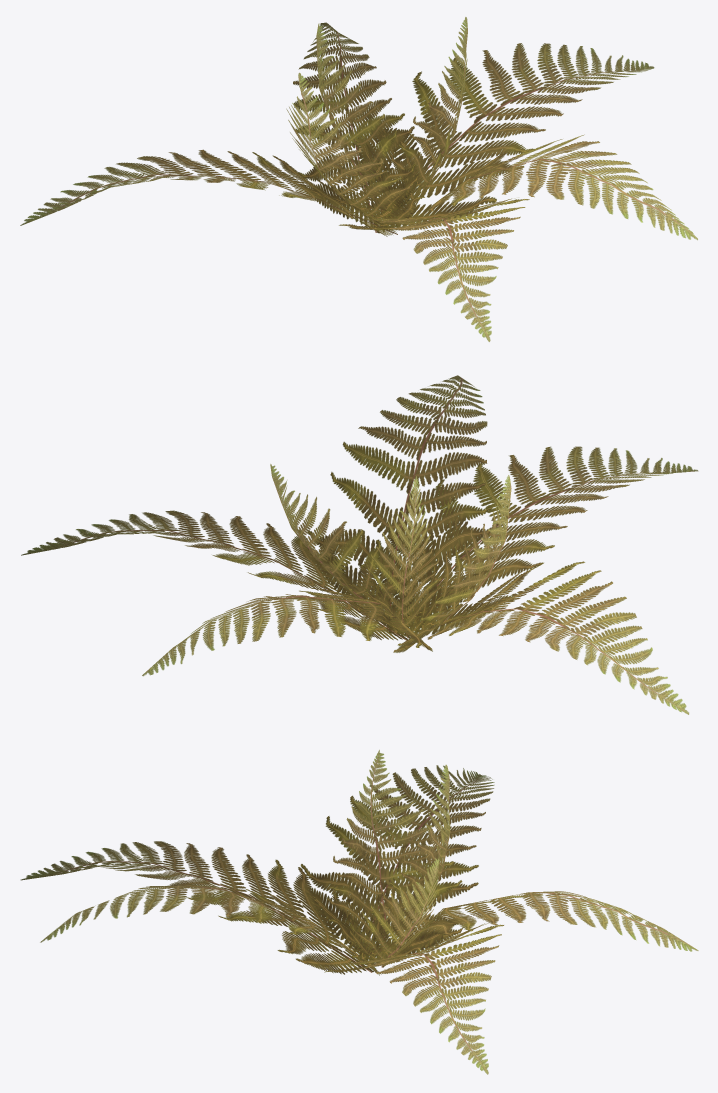
File: SM_Plant_Grass_Fern_03.gltf
3 views of the same model, one above another, from view 1: azimuth 30°, elevation 25°; view 2: azimuth 150°, elevation 25°; view 3: azimuth 270°, elevation 25° (orthographic). The views are drawn at different scales.
Parts seen in each view (by area): view 1: SM_Plant_Grass_Fern_03; view 2: SM_Plant_Grass_Fern_03; view 3: SM_Plant_Grass_Fern_03.
Part boxes in pixels (x1=…): SM_Plant_Grass_Fern_03: x1=20, y1=17, x2=697, y2=341; SM_Plant_Grass_Fern_03: x1=21, y1=375, x2=698, y2=714; SM_Plant_Grass_Fern_03: x1=20, y1=750, x2=698, y2=1074.
Size of the model in its own units: 1.49 by 0.4312 by 1.43.
1 material, 1 textured.
